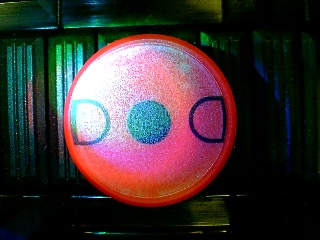BOHOMIPO2: (63, 34, 237, 207)
